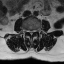CCS_normal: (30, 29, 32, 38)
LFS_stenosis: (34, 28, 36, 33)
LLS_stenosis: (32, 29, 34, 35)
RFS_normal: (26, 28, 28, 34)
RLS_stenosis: (28, 29, 30, 34)
